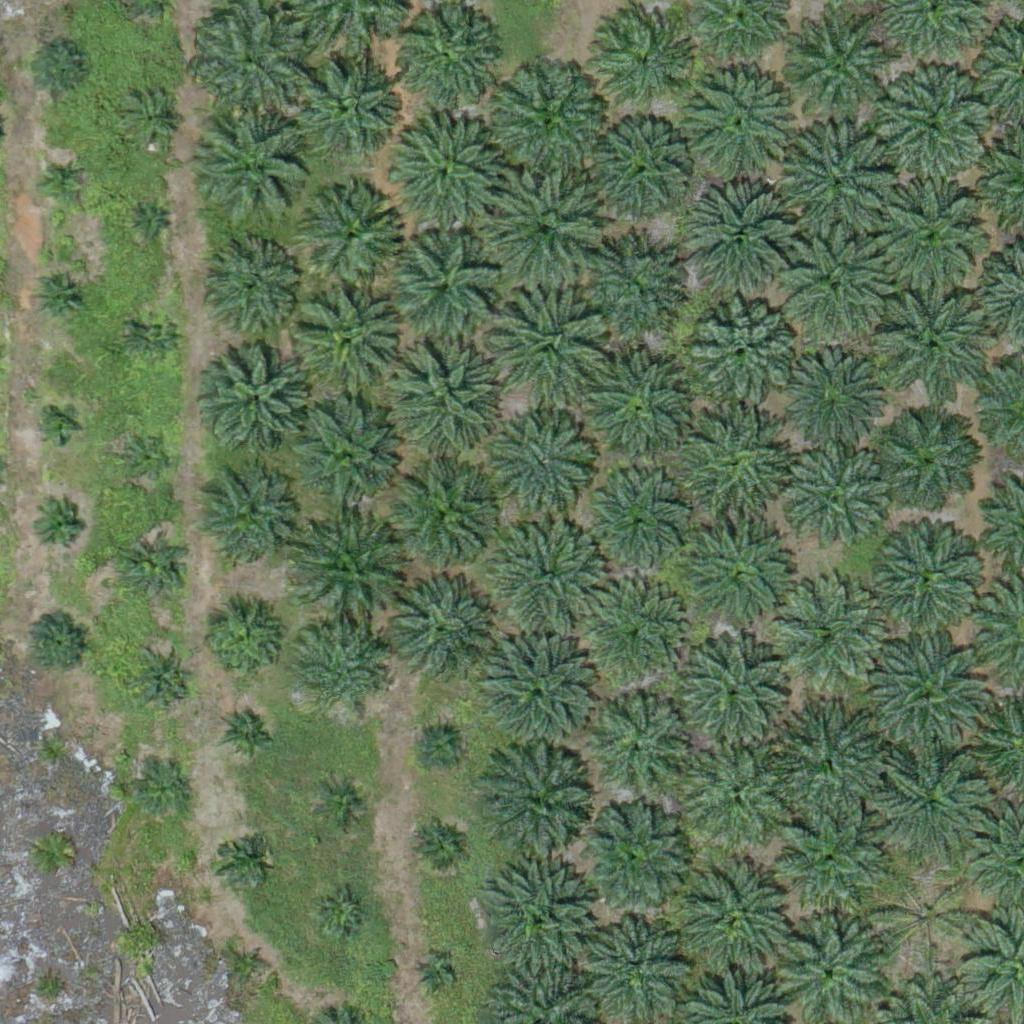Kelapa_Sawit: (483, 165, 608, 291), (485, 55, 610, 181), (671, 406, 796, 532), (681, 516, 806, 642), (380, 333, 505, 459), (487, 281, 612, 407), (666, 624, 791, 750), (495, 518, 608, 632), (786, 15, 899, 128), (780, 128, 893, 241), (679, 62, 792, 175), (779, 236, 892, 349), (873, 179, 986, 292), (385, 113, 498, 226), (384, 230, 497, 343), (871, 519, 984, 632), (877, 294, 990, 407), (773, 339, 886, 452), (381, 574, 494, 687), (485, 863, 598, 976), (573, 574, 686, 687), (682, 735, 795, 848), (773, 803, 886, 916), (767, 705, 880, 818), (680, 184, 792, 298), (387, 462, 499, 576), (295, 518, 407, 632), (291, 402, 403, 516), (294, 285, 406, 399), (773, 574, 885, 688), (873, 634, 985, 748), (879, 66, 991, 179), (194, 5, 306, 118), (203, 111, 315, 224), (782, 448, 894, 561), (688, 297, 800, 410), (583, 351, 695, 464), (483, 640, 595, 753), (483, 752, 595, 865), (580, 801, 692, 914), (587, 686, 699, 799), (685, 859, 797, 972), (875, 746, 987, 859), (876, 868, 976, 969), (296, 55, 396, 156), (302, 183, 402, 284), (879, 411, 979, 512), (586, 479, 686, 580), (498, 419, 598, 520), (592, 918, 692, 1019), (591, 11, 691, 111), (589, 120, 689, 220), (574, 243, 674, 343), (395, 4, 495, 104), (207, 349, 307, 449), (195, 475, 295, 575), (197, 598, 284, 686), (212, 245, 299, 333), (297, 625, 384, 713), (132, 650, 195, 713), (27, 609, 90, 672), (27, 37, 90, 100), (126, 540, 188, 603), (220, 702, 282, 765), (33, 500, 83, 551), (126, 94, 176, 145), (139, 769, 189, 819), (215, 833, 265, 883), (131, 312, 181, 362), (317, 889, 367, 939), (318, 780, 368, 830), (37, 157, 87, 207), (120, 431, 170, 481), (36, 271, 86, 321), (415, 721, 465, 771), (416, 824, 466, 874), (40, 406, 78, 444), (232, 947, 270, 985), (415, 956, 453, 994), (138, 212, 163, 237)
